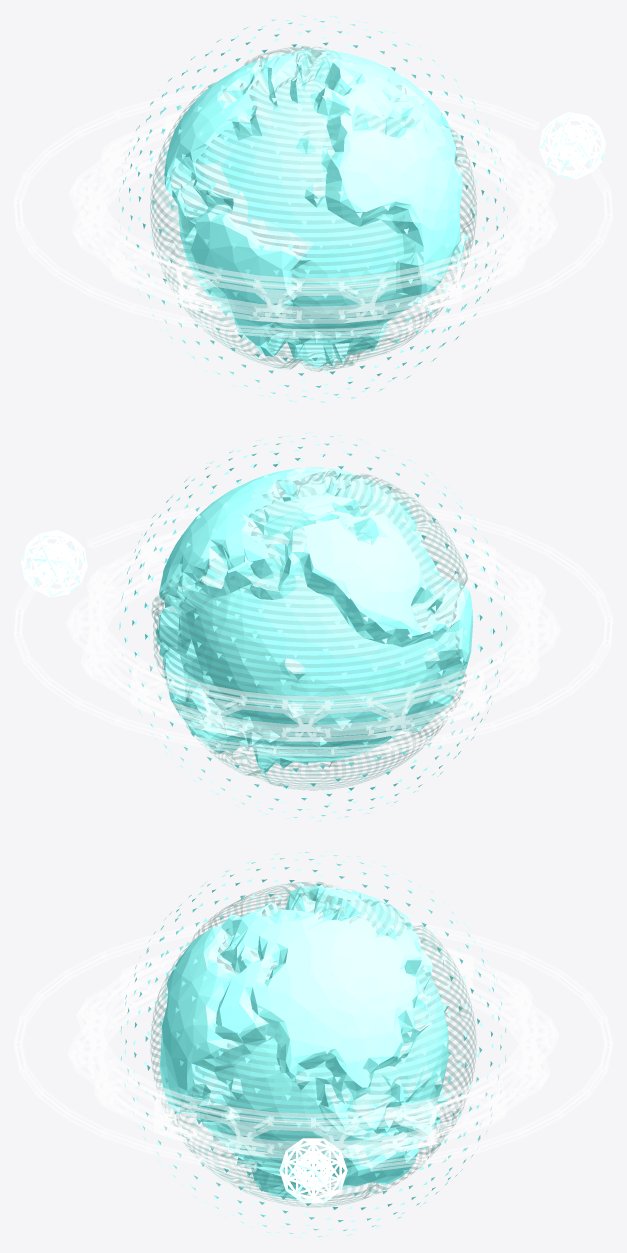
File: forWorld.glb
3 renders of one model, top to bottom at view 1: azimuth 30°, elevation 25°; view 2: azimuth 150°, elevation 25°; view 3: azimuth 270°, elevation 25°, orthographic.
Parts seen in each view (by area): view 1: TERRE1, Circle.643, Sphere.002, Circle, Circle.455, Icosphere.002; view 2: TERRE1, Circle.643, Sphere.002, Circle, Circle.455, Icosphere.002; view 3: TERRE1, Circle.643, Sphere.002, Circle, Circle.455, Icosphere.002.
Boxes of the visible parts, x1,y1,x2,y2 form: TERRE1: (164,49,465,367); Circle.643: (69,110,557,323); Sphere.002: (150,46,476,371); Circle: (14,87,612,338); Circle.455: (119,14,507,402); Icosphere.002: (539,112,605,179); TERRE1: (155,467,473,772); Circle.643: (66,523,560,741); Sphere.002: (151,469,467,790); Circle: (14,503,612,756); Circle.455: (119,432,507,821); Icosphere.002: (21,530,87,597); TERRE1: (159,886,448,1199); Circle.643: (67,942,559,1158); Sphere.002: (150,882,476,1207); Circle: (14,921,612,1171); Circle.455: (120,850,506,1238); Icosphere.002: (279,1138,347,1203).
Size of the model in its own units: 12.94 by 7.98 by 12.3.
